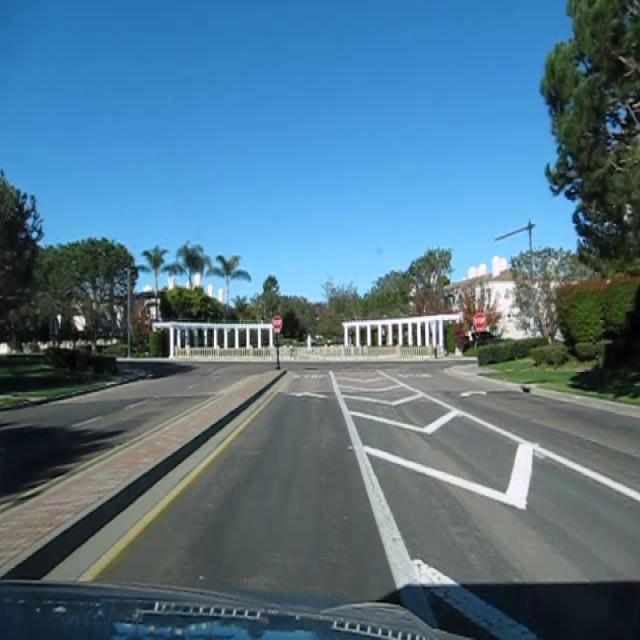stop_sign: (472, 310, 486, 330), (271, 314, 282, 329)
